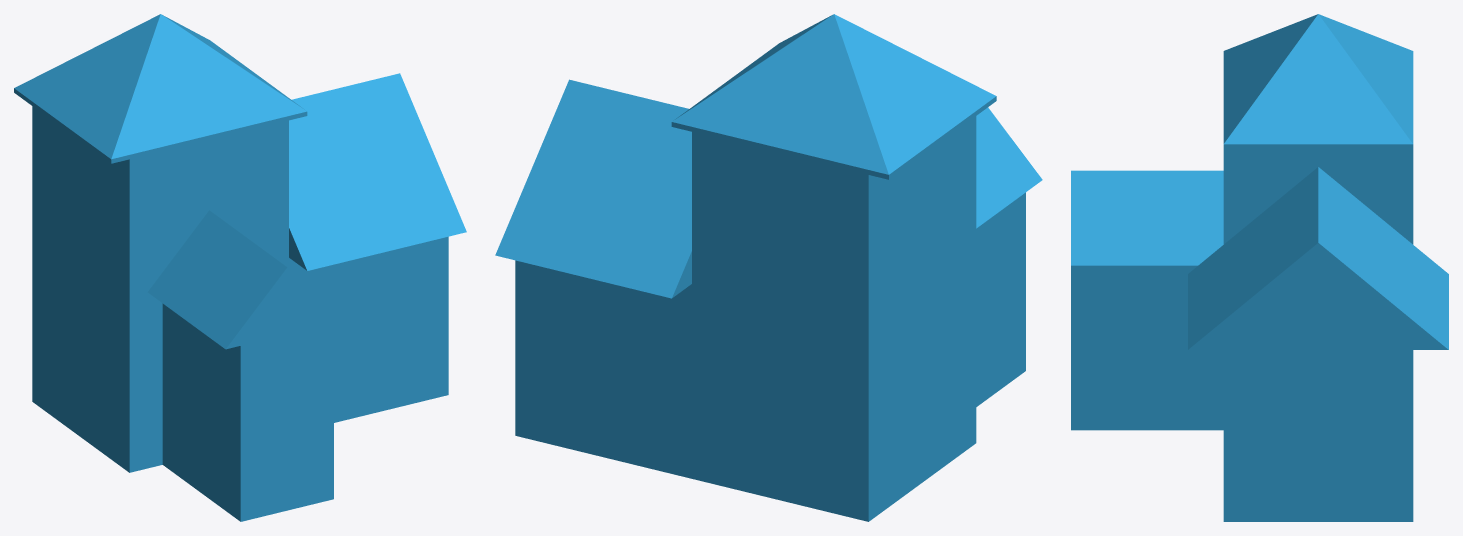
Rendered from StadtBlue.glb.
3 views of the same model, side by side, from view 1: azimuth 30°, elevation 25°; view 2: azimuth 150°, elevation 25°; view 3: azimuth 270°, elevation 25° (orthographic). The views are drawn at different scales.
Visible parts, largest first — view 1: Cube; view 2: Cube; view 3: Cube.
Boxes of the visible parts, x1,y1,x2,y2 form: Cube: (14, 14, 466, 521); Cube: (495, 14, 1042, 521); Cube: (1071, 14, 1448, 521).
Bounding box in the file's own units: 0.7302 × 0.835 × 0.7254.
